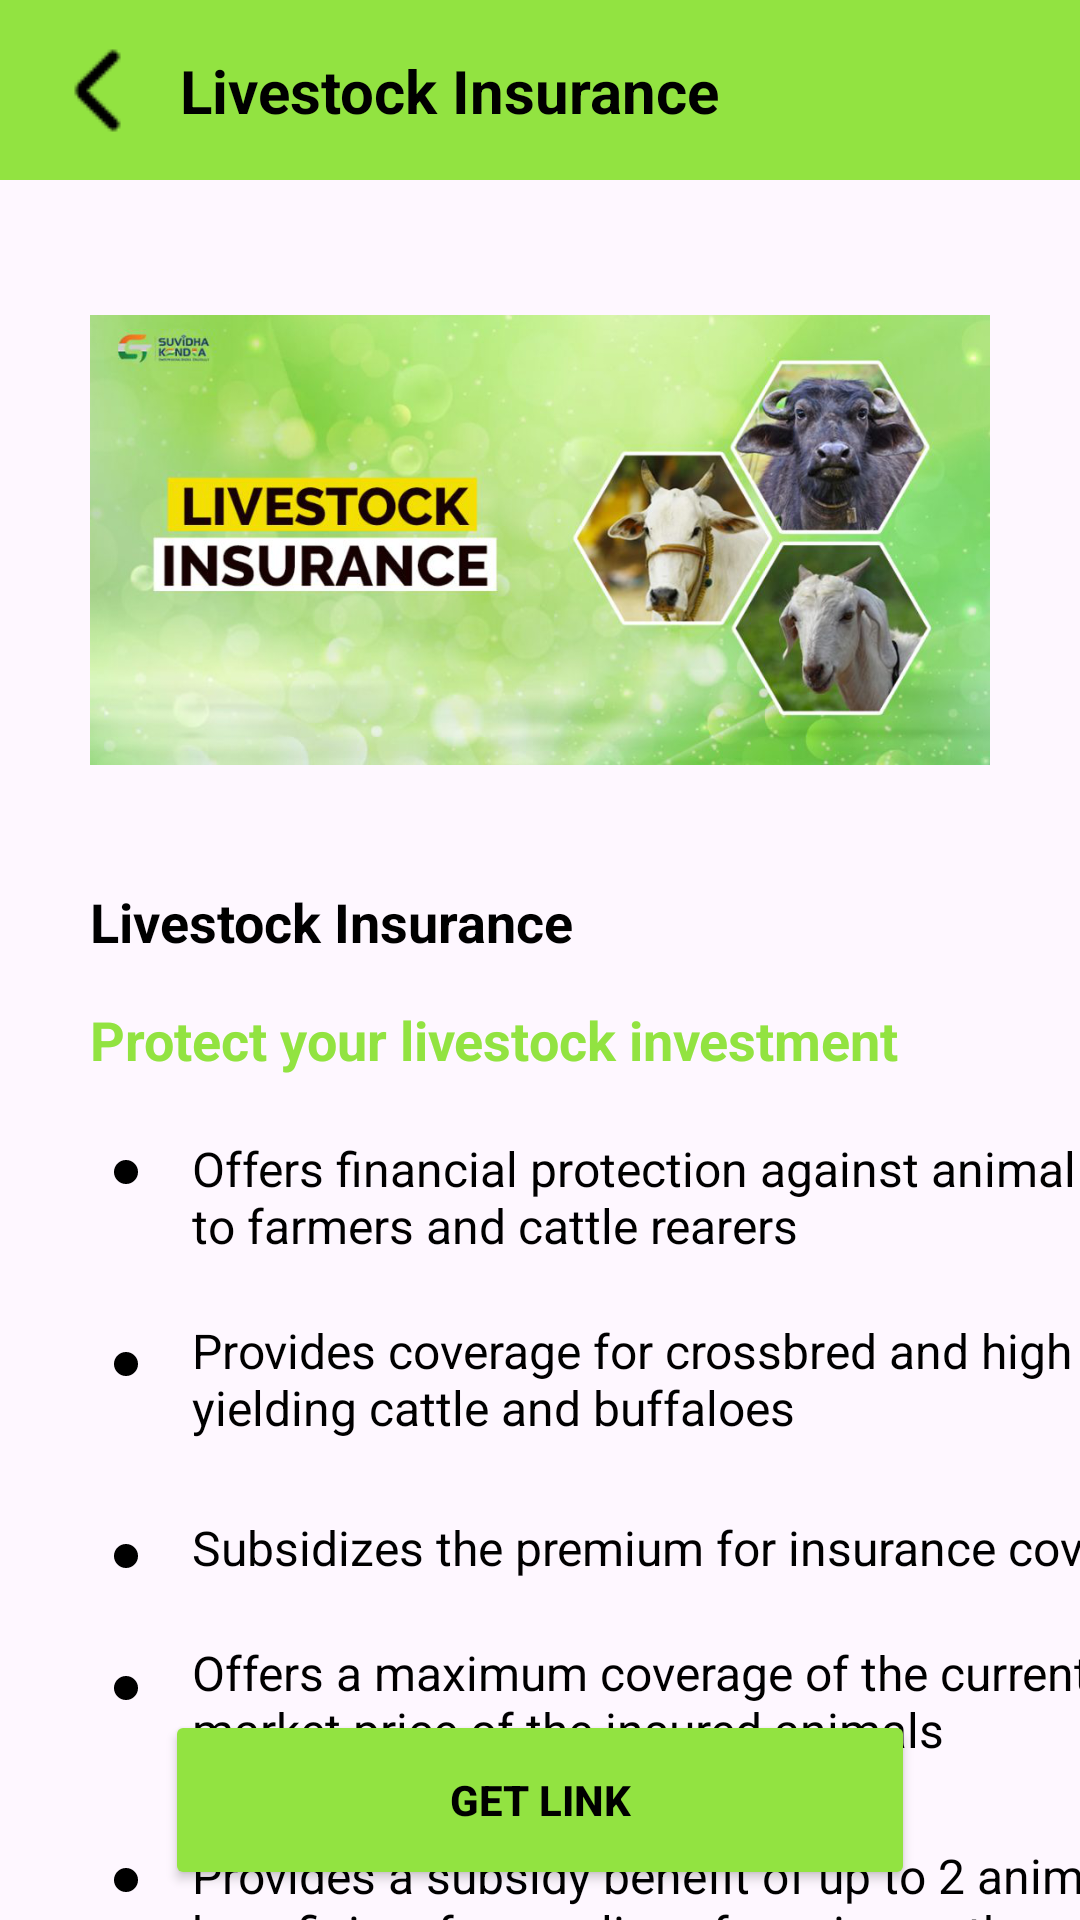

Screen size 1080px×1920px. Icon name, then its box in pixels as [x1,y1,x2,y2]:
back arrow: [74,49,121,132]
